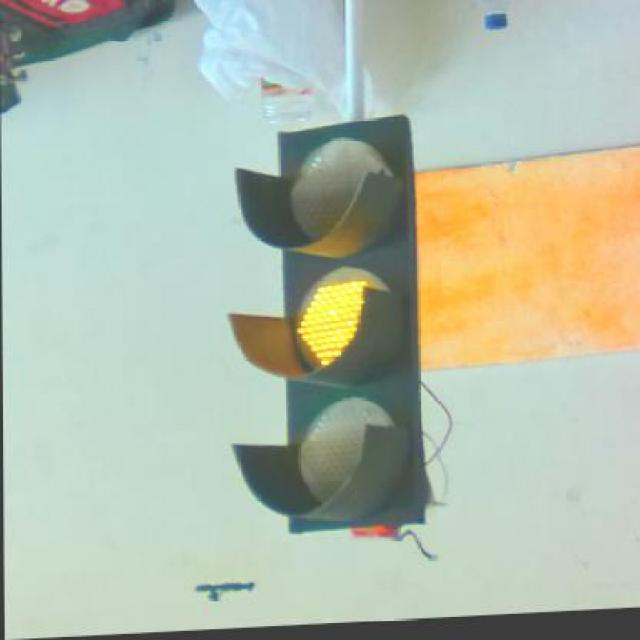yellow_light: (228, 124, 426, 538)
